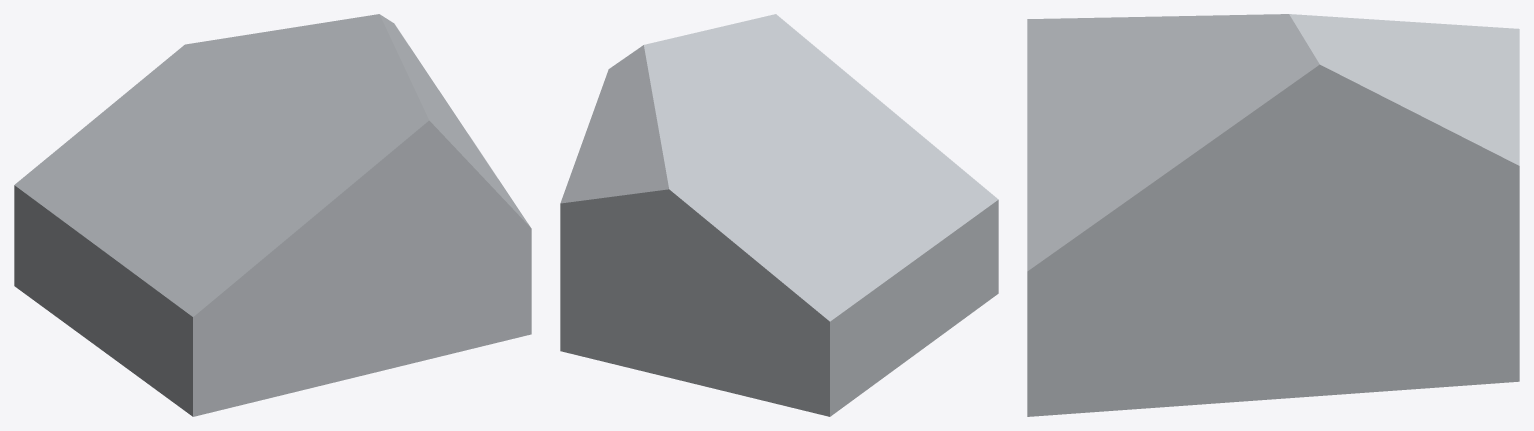
File: Rock_Square_s_06.fbx
3 renders of one model, left to right at view 1: azimuth 30°, elevation 25°; view 2: azimuth 150°, elevation 25°; view 3: azimuth 270°, elevation 25°, orthographic. The views are drawn at different scales.
Visible parts, largest first — view 1: Rock_Square_s_06; view 2: Rock_Square_s_06; view 3: Rock_Square_s_06.
Part boxes in pixels (x1,y1,x2,y2): Rock_Square_s_06: [14, 14, 531, 416]; Rock_Square_s_06: [560, 14, 998, 416]; Rock_Square_s_06: [1027, 14, 1519, 416].
Size of the model in its own units: 53.12 by 39.69 by 48.6.
